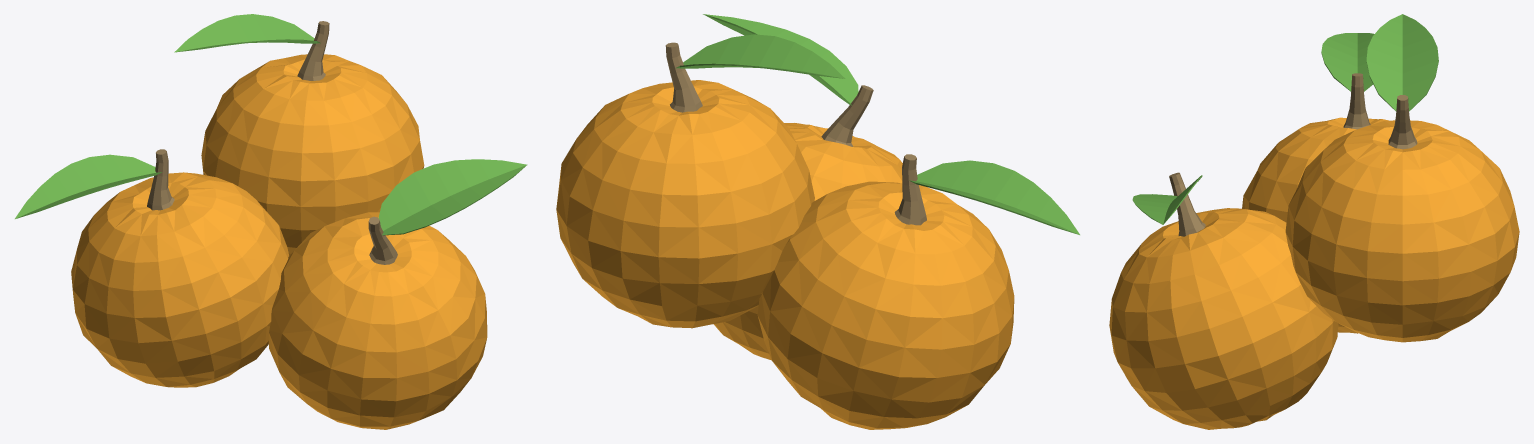
Rendered from naranjas.fbx.
The picture shows the model from 3 angles, left to right: view 1: azimuth 30°, elevation 25°; view 2: azimuth 150°, elevation 25°; view 3: azimuth 270°, elevation 25°; orthographic projection. The views are drawn at different scales.
Parts seen in each view (by area): view 1: Naranja_Cuerpo.001, Naranja_Cuerpo.002, Naranja_Cuerpo, Naranja_Hoja.002, Naranja_Hoja.001, Naranja_Hoja, Naranja_Tallo.001, Naranja_Tallo, Naranja_Tallo.002; view 2: Naranja_Cuerpo.001, Naranja_Cuerpo, Naranja_Cuerpo.002, Naranja_Hoja.001, Naranja_Hoja, Naranja_Hoja.002, Naranja_Tallo.001, Naranja_Tallo, Naranja_Tallo.002; view 3: Naranja_Cuerpo, Naranja_Cuerpo.002, Naranja_Hoja, Naranja_Cuerpo.001, Naranja_Hoja.001, Naranja_Hoja.002, Naranja_Tallo.002, Naranja_Tallo, Naranja_Tallo.001.
Boxes of the visible parts, bbox=[...] form: Naranja_Cuerpo.001: bbox=[71, 172, 288, 387]; Naranja_Cuerpo.002: bbox=[268, 212, 487, 429]; Naranja_Cuerpo: bbox=[201, 54, 424, 255]; Naranja_Hoja.002: bbox=[378, 159, 527, 235]; Naranja_Hoja.001: bbox=[15, 154, 161, 218]; Naranja_Hoja: bbox=[174, 14, 320, 52]; Naranja_Tallo.001: bbox=[147, 149, 174, 210]; Naranja_Tallo: bbox=[297, 21, 329, 80]; Naranja_Tallo.002: bbox=[368, 216, 397, 264]; Naranja_Cuerpo.001: bbox=[757, 181, 1014, 429]; Naranja_Cuerpo: bbox=[556, 80, 814, 328]; Naranja_Cuerpo.002: bbox=[713, 123, 920, 360]; Naranja_Hoja.001: bbox=[909, 160, 1079, 234]; Naranja_Hoja: bbox=[676, 34, 845, 78]; Naranja_Hoja.002: bbox=[703, 14, 858, 105]; Naranja_Tallo.001: bbox=[894, 154, 926, 225]; Naranja_Tallo: bbox=[665, 42, 702, 112]; Naranja_Tallo.002: bbox=[821, 85, 873, 146]; Naranja_Cuerpo: bbox=[1285, 120, 1519, 342]; Naranja_Cuerpo.002: bbox=[1109, 208, 1338, 429]; Naranja_Hoja: bbox=[1366, 14, 1438, 111]; Naranja_Cuerpo.001: bbox=[1242, 117, 1388, 333]; Naranja_Hoja.001: bbox=[1321, 33, 1374, 91]; Naranja_Hoja.002: bbox=[1132, 175, 1202, 224]; Naranja_Tallo.002: bbox=[1169, 172, 1205, 236]; Naranja_Tallo: bbox=[1388, 95, 1417, 149]; Naranja_Tallo.001: bbox=[1343, 73, 1370, 129].
Size of the model in its own units: 66.82 by 51.37 by 54.25.
